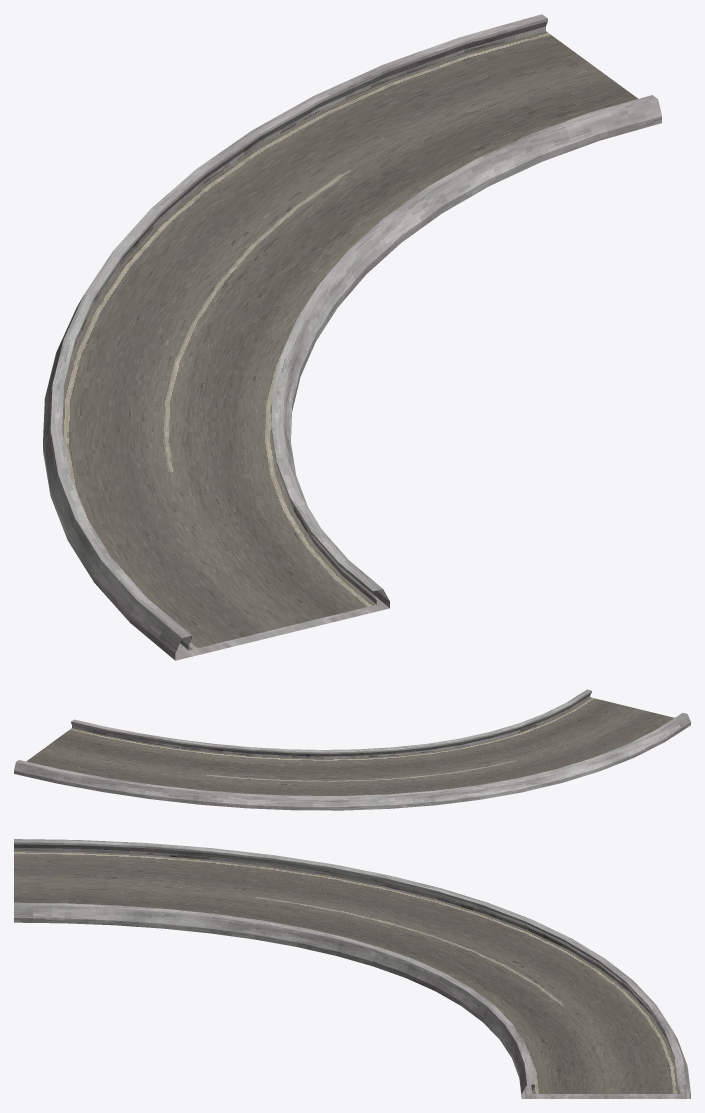
File: turn-right4x4.glb
3 renders of one model, top to bottom at view 1: azimuth 30°, elevation 25°; view 2: azimuth 150°, elevation 25°; view 3: azimuth 270°, elevation 25°, orthographic. The views are drawn at different scales.
Visible parts, largest first — view 1: road-Turn-Flat-Flat-Up1-Right-Size4; view 2: road-Turn-Flat-Flat-Up1-Right-Size4; view 3: road-Turn-Flat-Flat-Up1-Right-Size4.
Boxes of the visible parts, bbox=[...] form: road-Turn-Flat-Flat-Up1-Right-Size4: bbox=[43, 14, 661, 660]; road-Turn-Flat-Flat-Up1-Right-Size4: bbox=[14, 689, 690, 810]; road-Turn-Flat-Flat-Up1-Right-Size4: bbox=[14, 839, 690, 1098].
Size of the model in its own units: 4 by 0.3438 by 4.
Materials: 2 (2 with a texture image).
